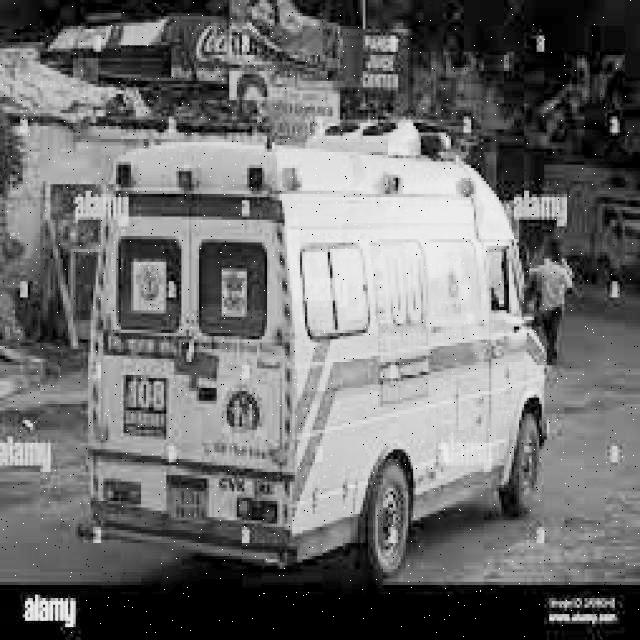LCV: (80, 153, 292, 559)
